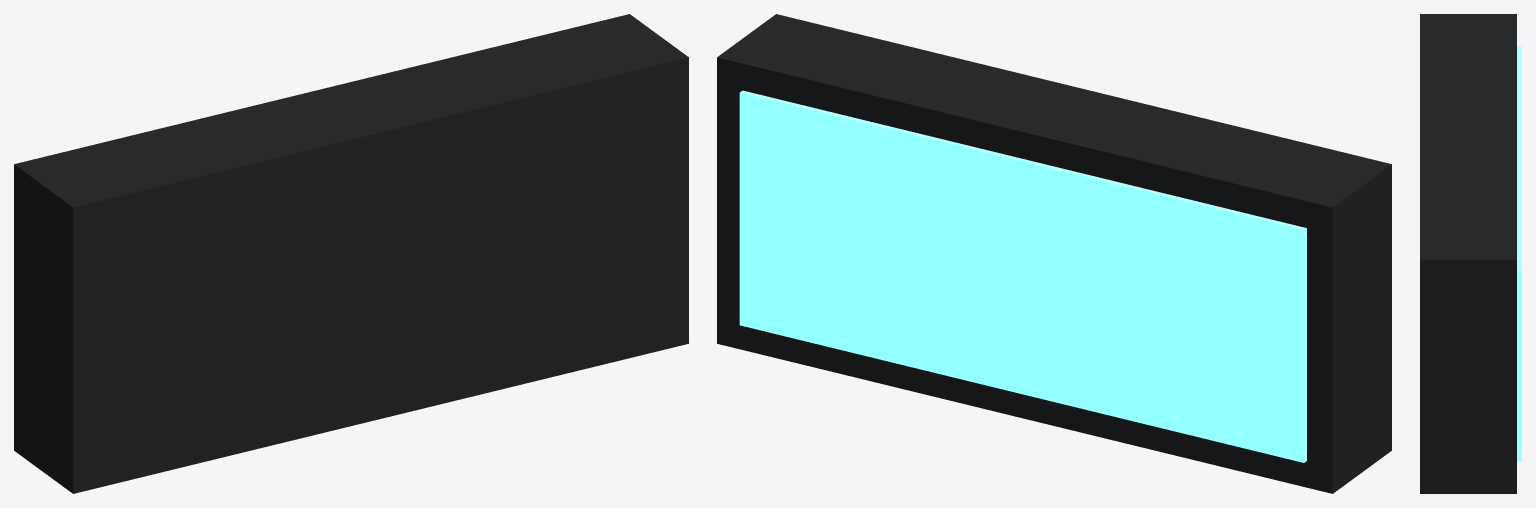
Rendered from exit_sign.fbx.
The picture shows the model from 3 angles, left to right: view 1: azimuth 30°, elevation 25°; view 2: azimuth 150°, elevation 25°; view 3: azimuth 270°, elevation 25°; orthographic projection. The views are drawn at different scales.
Visible parts, largest first — view 1: exit_sign; view 2: exit_sign; view 3: exit_sign.
Part boxes in pixels (left/top/right/bottom): exit_sign: left=14, top=14, right=688, bottom=493; exit_sign: left=717, top=14, right=1391, bottom=493; exit_sign: left=1420, top=14, right=1521, bottom=493.
Bounding box in the file's own units: 0.36 × 0.16 × 0.063.
